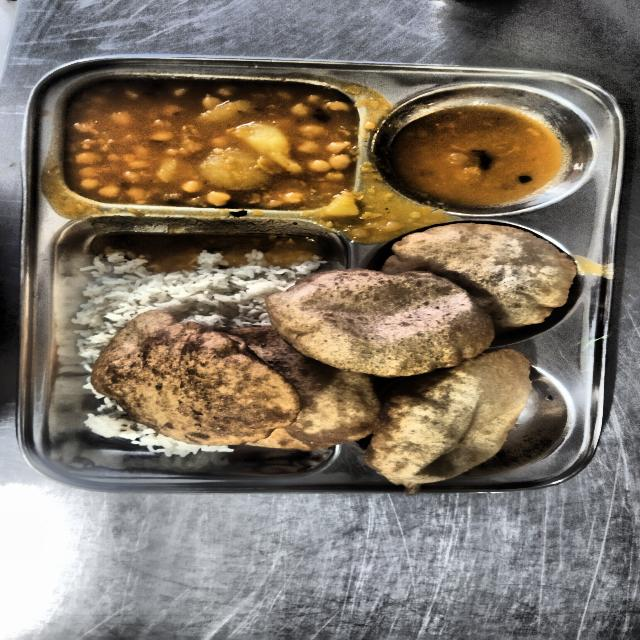35: (92, 223, 566, 494)
Besan-Chilla: (74, 83, 347, 206)
Biryani: (65, 80, 358, 210)
Raita: (72, 250, 321, 372), (84, 400, 199, 457)
